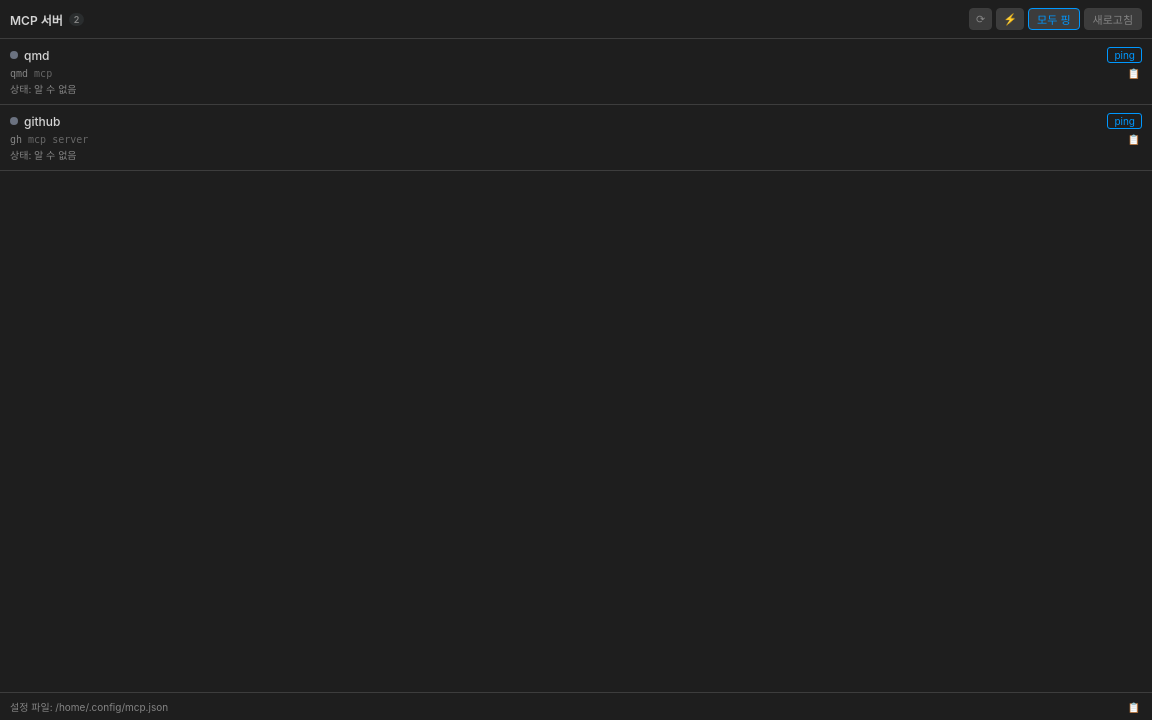
Test: ConnectionPanel › ping 실패 시 응답 없음이 표시된다
expect the text "qmd" is shown: met, box [24,48,50,62]
Step 1. Click the 1st button "ping" → (1125, 55), box [1107,47,1142,63]
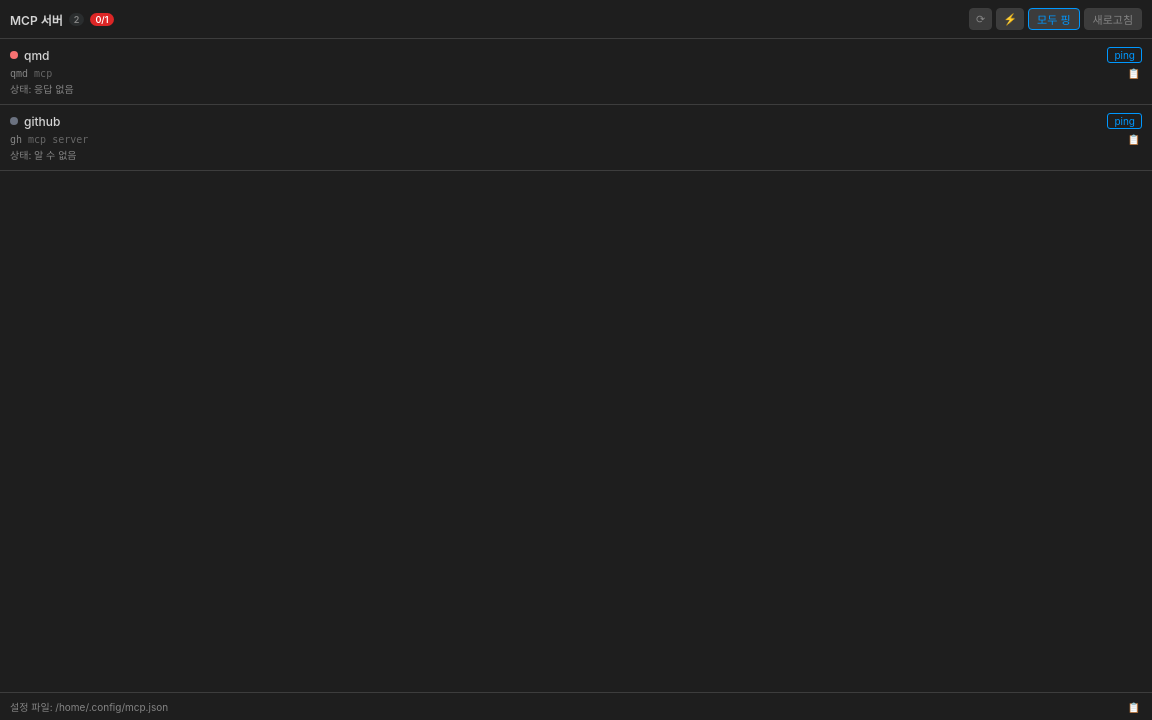
expect the text "상태: 응답 없음" is shown: met, box [10,83,74,95]
